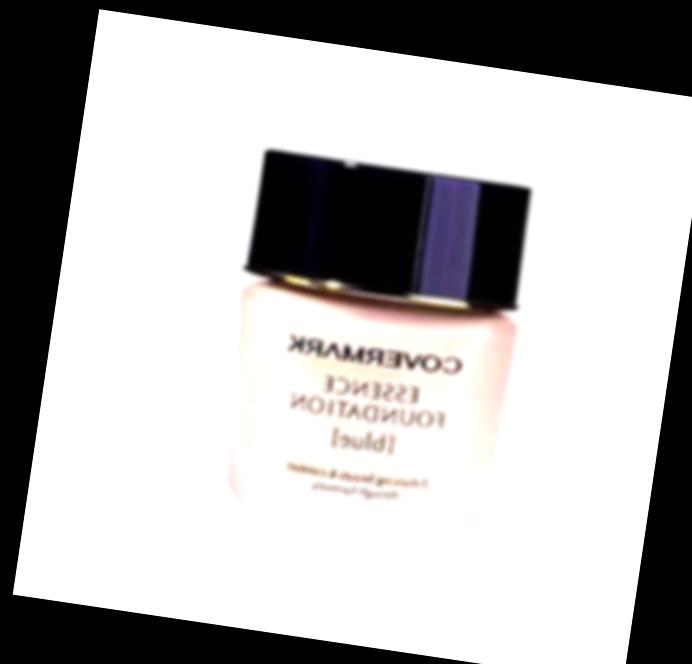cosmetic: (207, 147, 540, 544)
